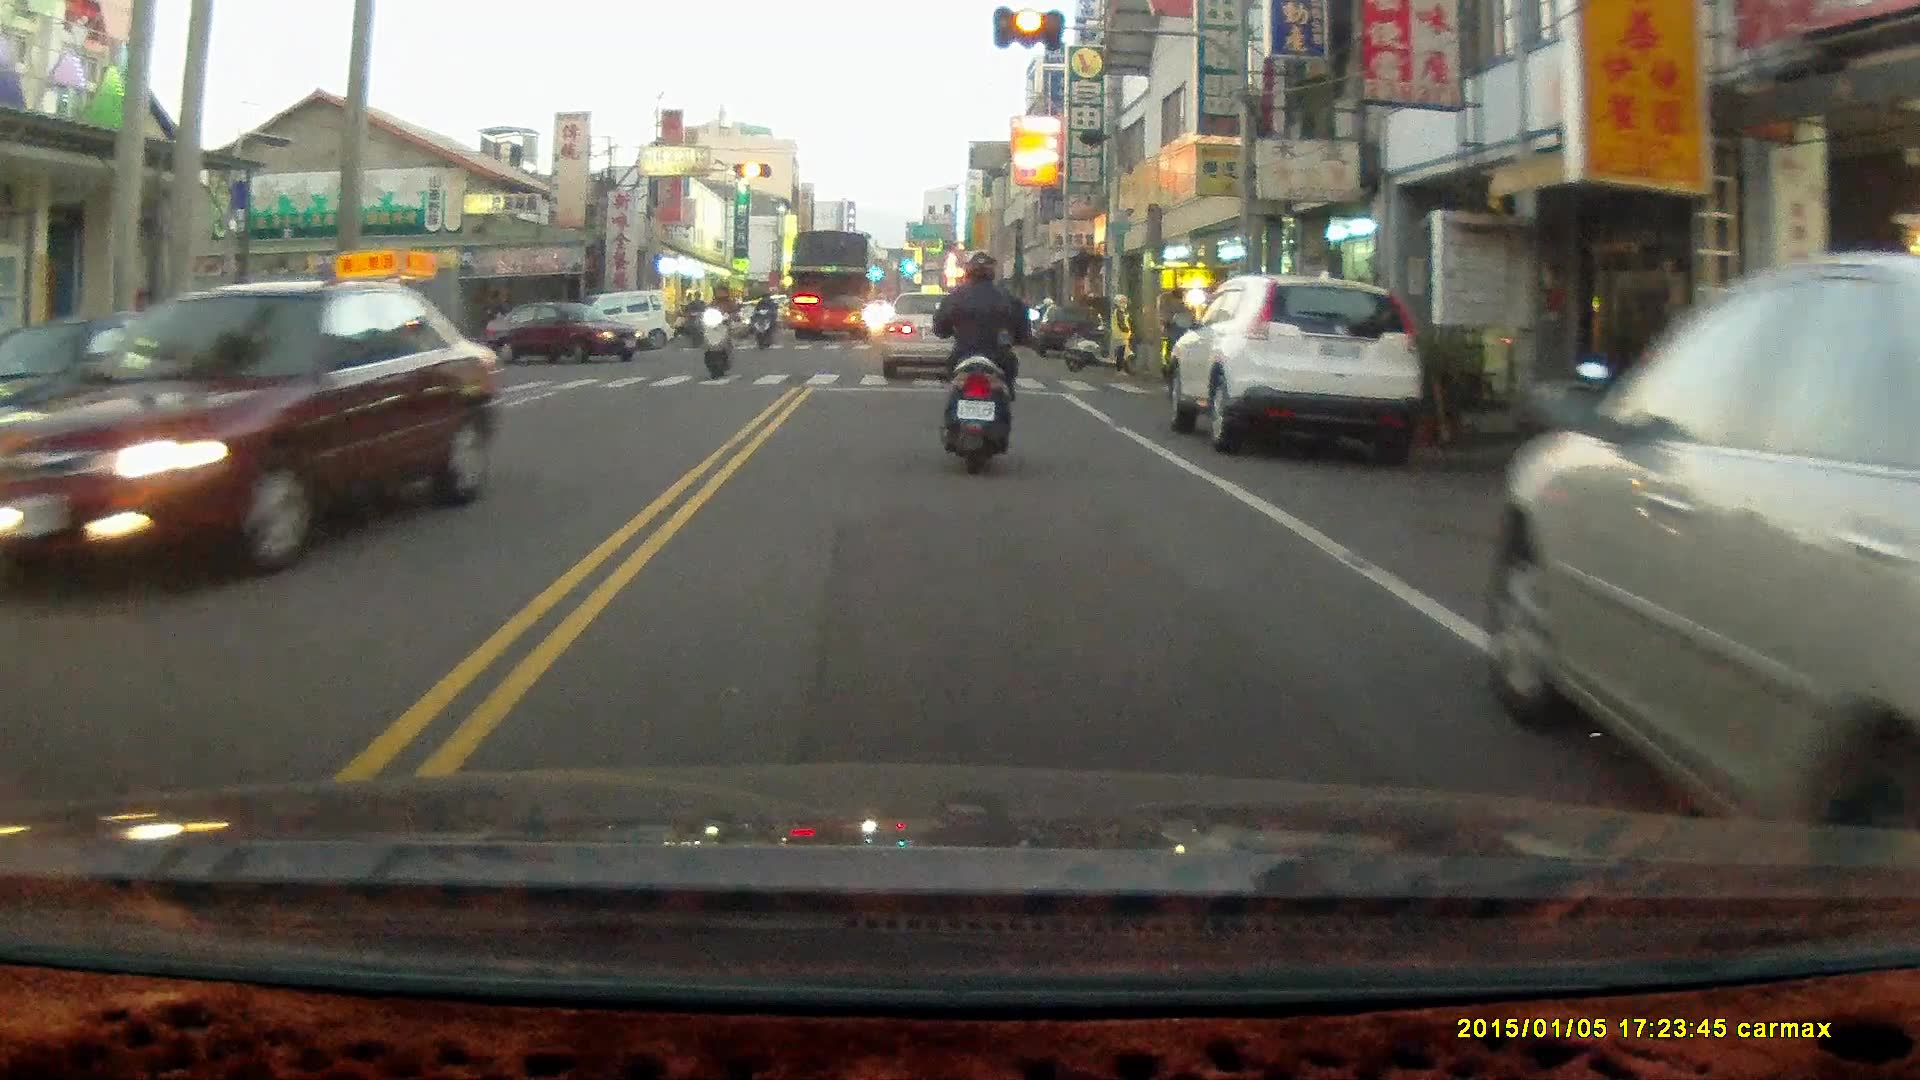pedestrian: (1160, 286, 1190, 386), (1106, 293, 1136, 378)
rider: (932, 249, 1037, 478), (696, 278, 737, 380), (678, 289, 706, 350), (751, 287, 773, 352)
vehicle: (1497, 229, 1919, 827), (6, 280, 494, 592), (1168, 275, 1427, 455), (1, 313, 248, 479), (784, 230, 877, 345), (496, 301, 639, 368), (880, 292, 988, 380)
